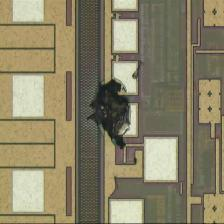PARTICLE: (88, 60, 146, 152)
